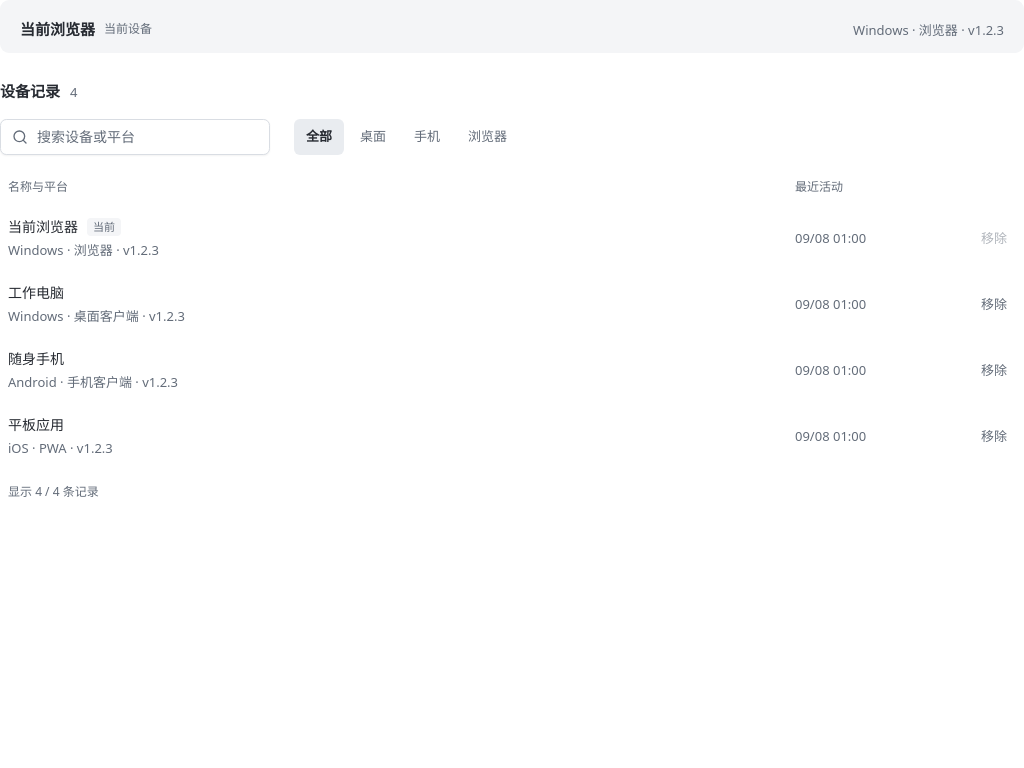
Test: ClientDevicesSettings › keeps a failed removal open for retry and catches the rejected request
The image size is (1024, 768).
What coordinates should you click on to do the following:
click the button with aria-label "移除 工作电脑 的记录"
I would click on:
 (994, 305)
Its box is [972,287,1016,323].
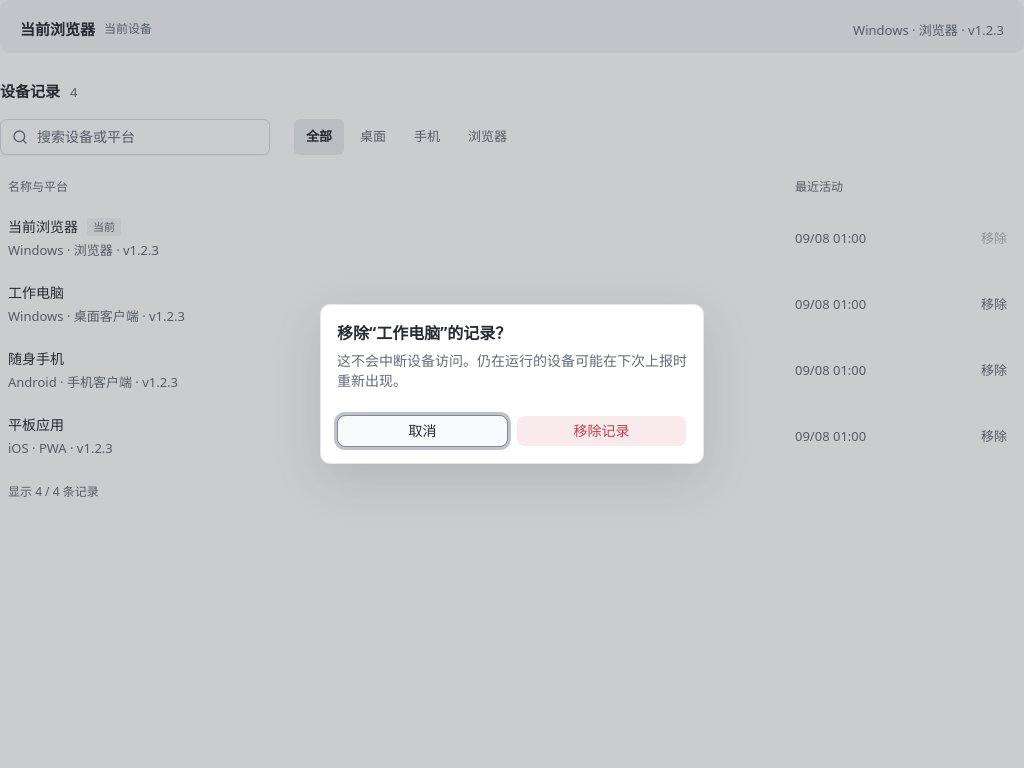
What coordinates should you click on to do the following:
click the button "移除记录"
I would click on:
 (602, 431)
Its box is [516,415,687,447].
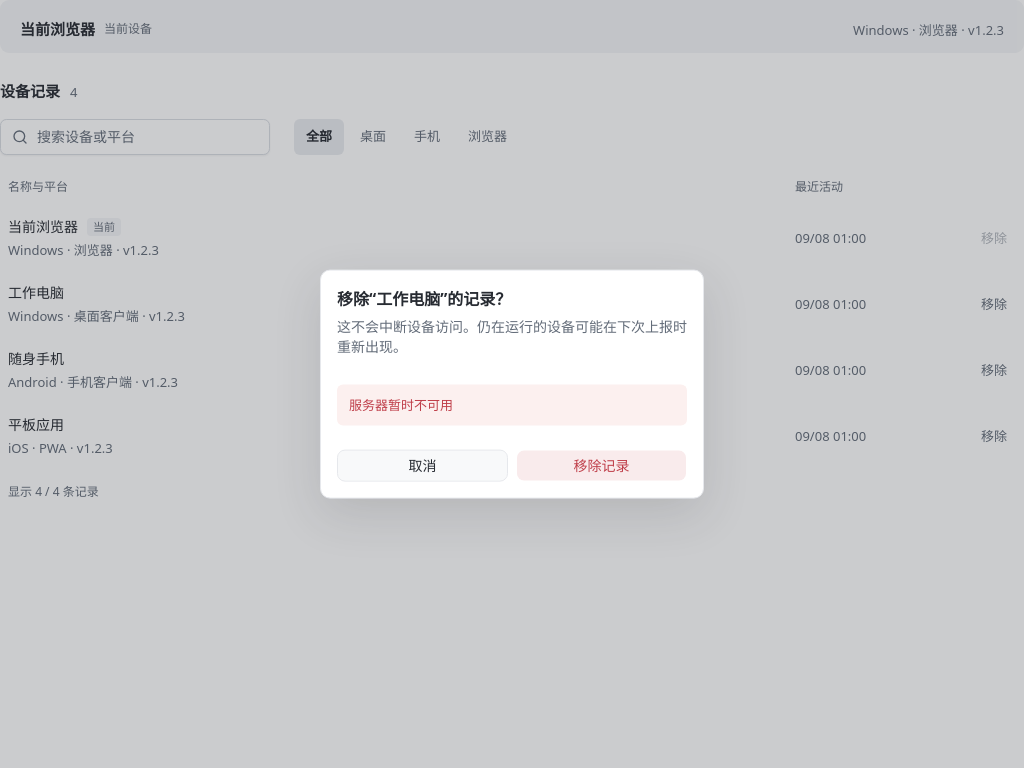
Now the message "服务器暂时不可用" is shown, box [337,385,687,425]
Now the message reads "服务器暂时不可用", box [349,396,453,414]
What coordinates should you click on to do the following:
click the button "移除记录"
I would click on:
 (602, 465)
Its box is [516,449,687,481].
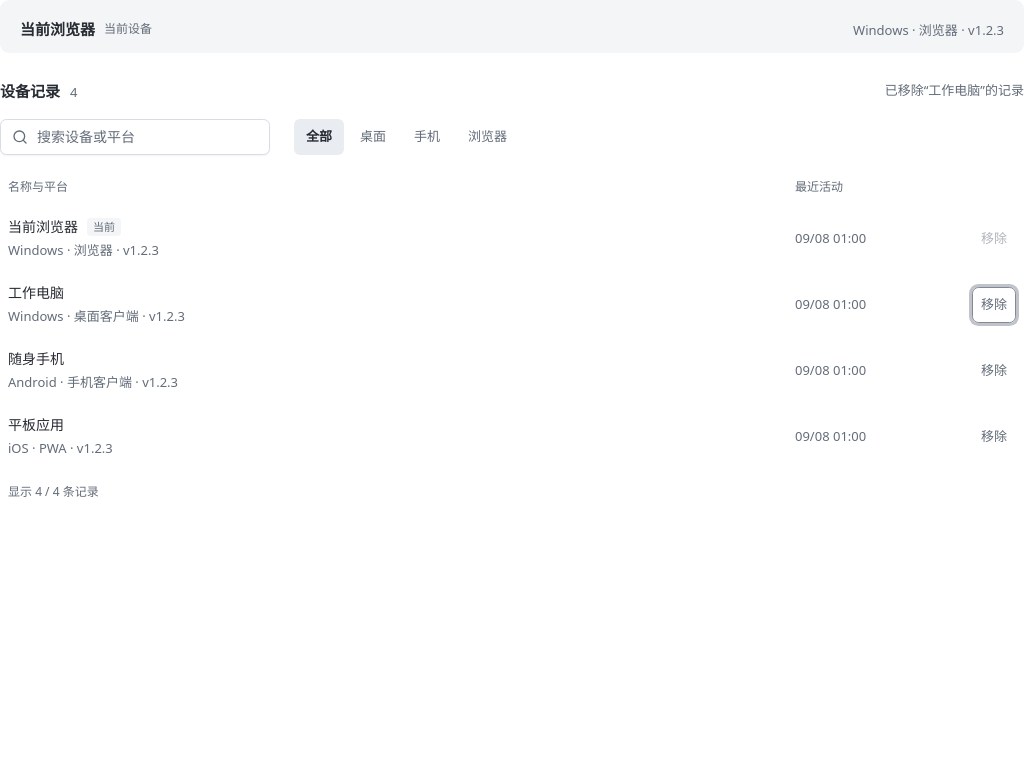
Now the text "已移除“工作电脑”的记录" is shown, box [885,80,1023,101]
